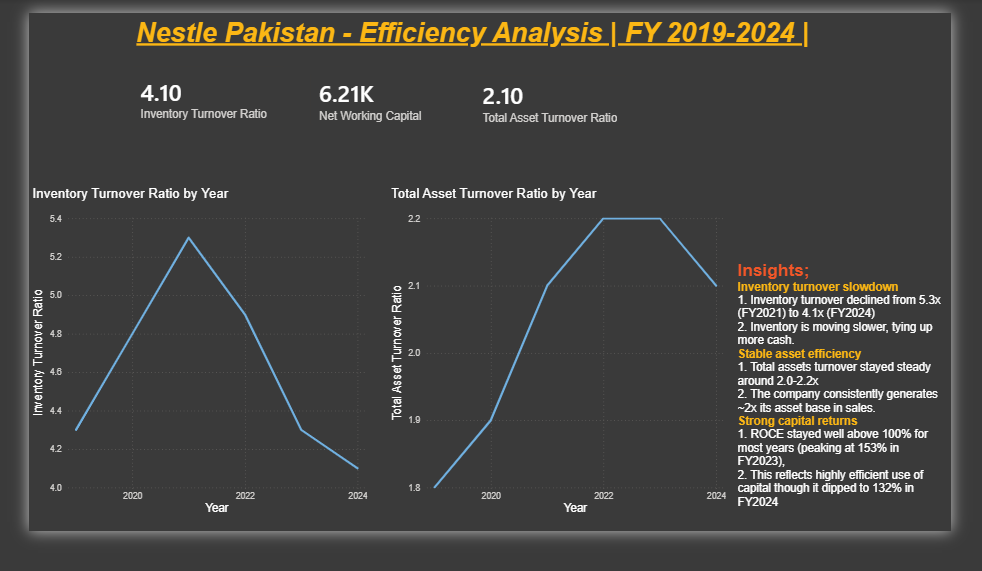

What the dashboard file says about the page in this screenshot:
{"tool":"powerbi","page":{"name":"Efficiency","canvas":[1280,720],"ordinal":4},"visuals":[{"type":"textbox","box":[143.8,0,958.3,72.9],"z":0},{"type":"cardVisual","fields":{"Data":["Nestle Pakistan 6 yr Summary.Inventory Turnover Ratio"]},"box":[125,56.2,247.9,122.9],"z":1000},{"type":"cardVisual","fields":{"Data":["Nestle Pakistan 6 yr Summary.Net Working Capital"]},"box":[372.9,66.7,247.9,106.2],"z":2000},{"type":"cardVisual","fields":{"Data":["Nestle Pakistan 6 yr Summary.Total Asset Turnover Ratio"]},"box":[600,68.8,247.9,106.2],"z":3000},{"type":"lineChart","fields":{"Category":["Year Table.Year"],"Y":["Nestle Pakistan 6 yr Summary.Inventory Turnover Ratio"]},"box":[0,239.6,475,462.5],"z":4000},{"type":"lineChart","fields":{"Category":["Year Table.Year"],"Y":["Nestle Pakistan 6 yr Summary.Total Asset Turnover Ratio"]},"box":[497.9,239.6,475,462.5],"z":5000},{"type":"textbox","box":[979.2,337.5,300,364.6],"z":6000}]}

Visuals, with their boxes on the page's 1280x720 design canvas (x1, y1, x2, y2). These are canvas units, not pixel positions in the 982x571 screenshot, which may show the page scaled, cropped or inside an application window:
textbox: (x1=144, y1=0, x2=1102, y2=73)
cardVisual - Nestle Pakistan 6 yr Summary.Inventory Turnover Ratio: (x1=125, y1=56, x2=373, y2=179)
cardVisual - Nestle Pakistan 6 yr Summary.Net Working Capital: (x1=373, y1=67, x2=621, y2=173)
cardVisual - Nestle Pakistan 6 yr Summary.Total Asset Turnover Ratio: (x1=600, y1=69, x2=848, y2=175)
lineChart - Year Table.Year x Nestle Pakistan 6 yr Summary.Inventory Turnover Ratio: (x1=0, y1=240, x2=475, y2=702)
lineChart - Year Table.Year x Nestle Pakistan 6 yr Summary.Total Asset Turnover Ratio: (x1=498, y1=240, x2=973, y2=702)
textbox: (x1=979, y1=338, x2=1279, y2=702)
